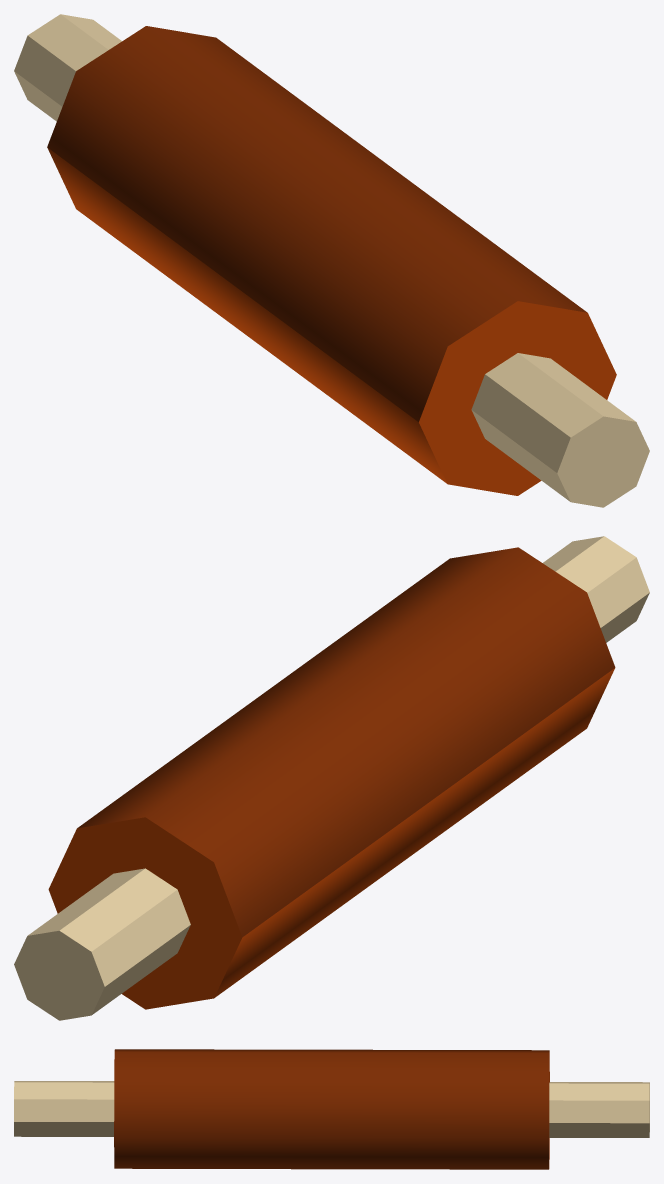
The model's file is Rolling_Pin.fbx.
3 views of the same model, one above another, from view 1: azimuth 30°, elevation 25°; view 2: azimuth 150°, elevation 25°; view 3: azimuth 270°, elevation 25° (orthographic). The views are drawn at different scales.
Visible parts, largest first — view 1: Rolling_Pin; view 2: Rolling_Pin; view 3: Rolling_Pin.
Part boxes in pixels (box(x1,y1,x2,y2)): Rolling_Pin: box(14, 14, 649, 507); Rolling_Pin: box(14, 536, 649, 1020); Rolling_Pin: box(14, 1049, 649, 1169).
Size of the model in its own units: 8.45 by 7.85 by 40.
